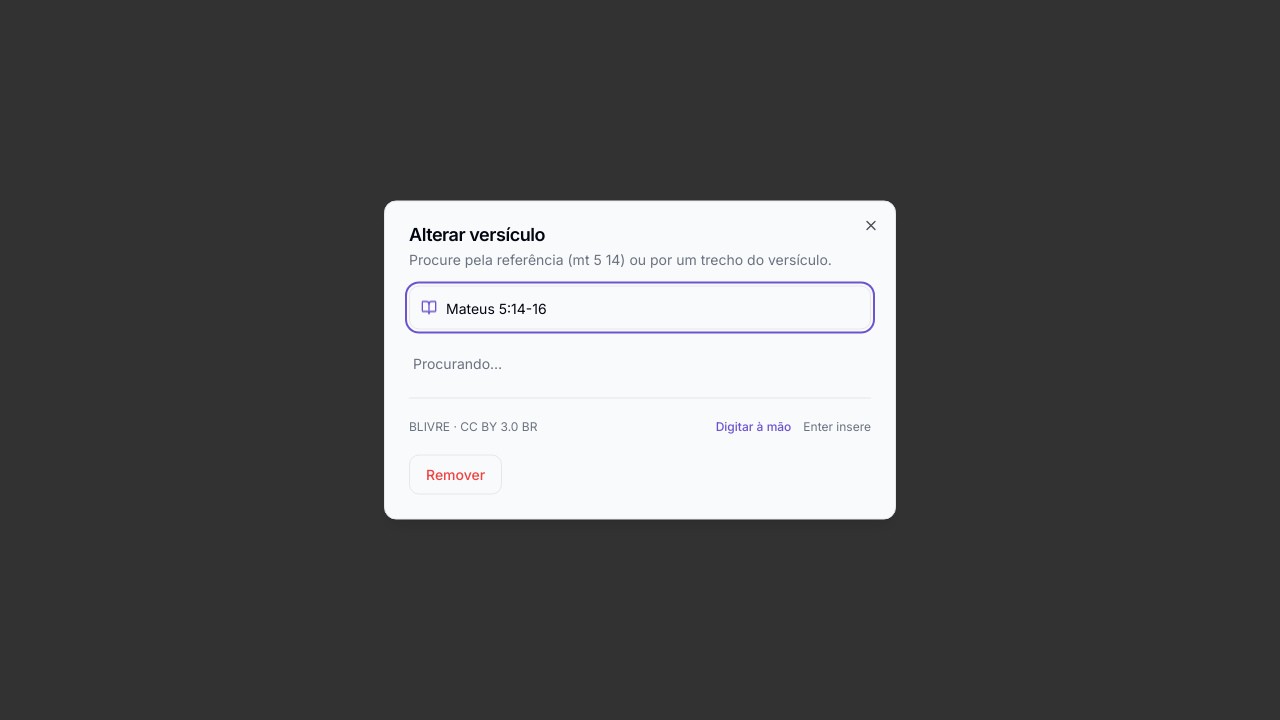
Test: VerseDialog — alterar › salvar à mão um bloco da Bíblia grava-o como manual
Later steps or results of the test are not shown.
Step 1. Click the button "Digitar à mão" → (754, 426), box x1=716 y1=410 x2=791 y2=442
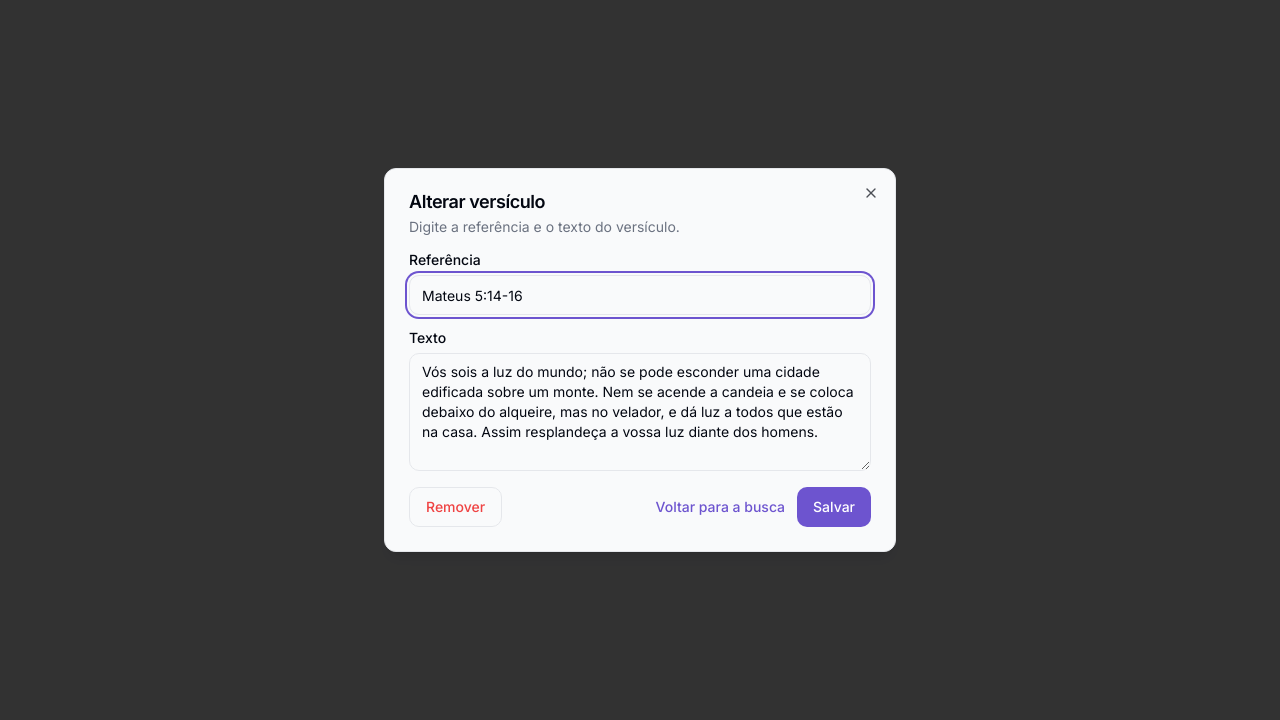
expect the button "Remover" is shown: met, box x1=409 y1=487 x2=502 y2=527
expect the field labelled "Referência" holds "Mateus 5:14-16": met, box x1=409 y1=275 x2=871 y2=315
